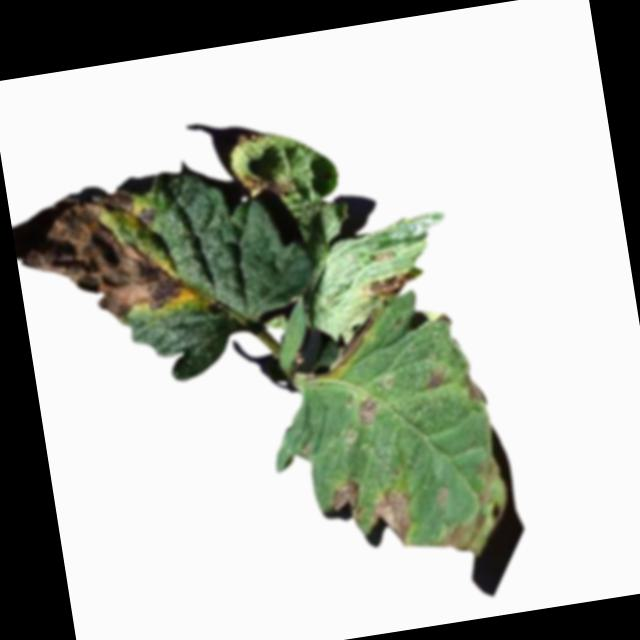Early_blight: (9, 182, 199, 332), (324, 311, 385, 369), (368, 485, 419, 552), (236, 164, 295, 202), (358, 268, 421, 301), (325, 477, 363, 524), (465, 369, 487, 406), (354, 397, 382, 426), (424, 368, 447, 388)
